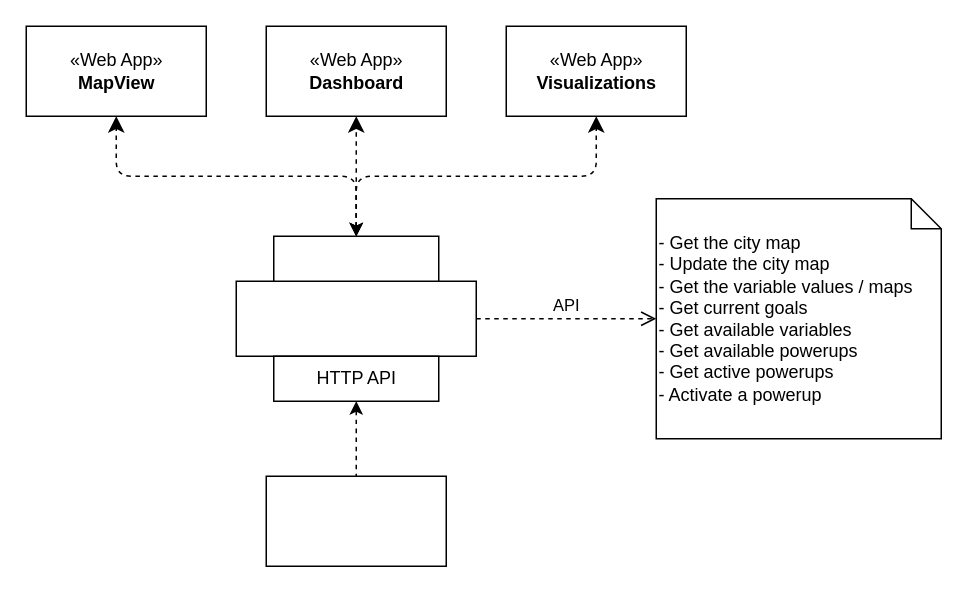
Some shapes in this 968 by 593 pixel diagram are drawn without their labels. Each missing label, with the box of its shape:
WebSocket API: (272, 235, 439, 281)
«node.js» CityStateServer: (235, 280, 476, 356)
«Python» Scanner: (265, 475, 446, 566)
